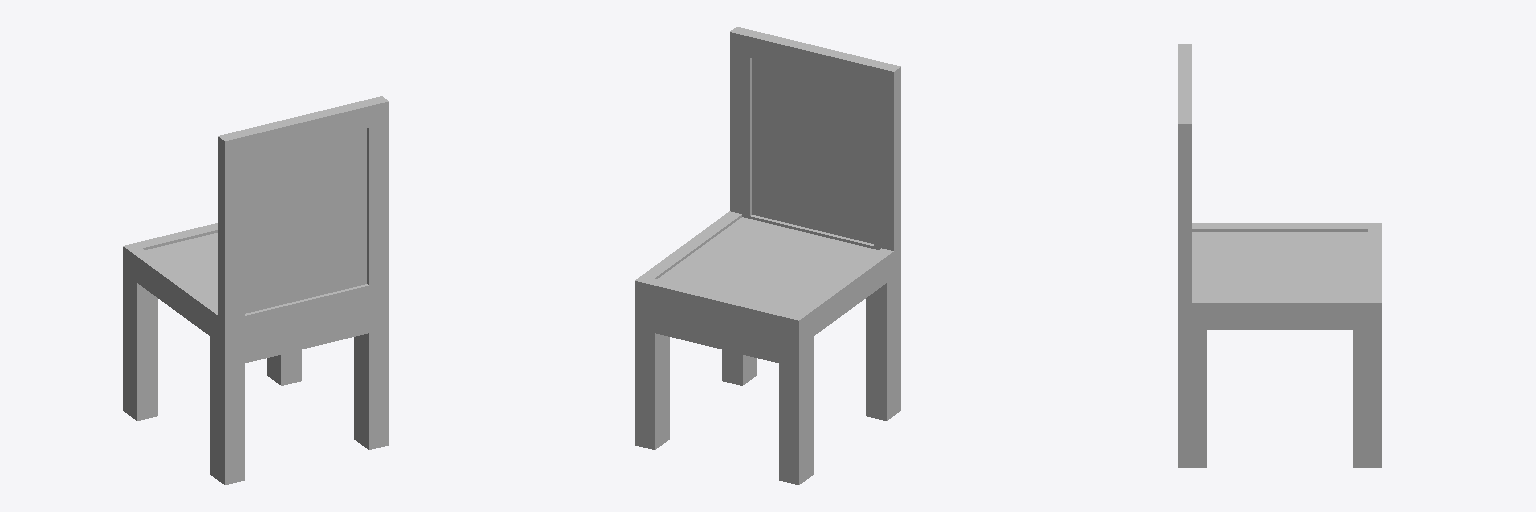
The model's file is simplechairz-.obj.
3 views of the same model, side by side, from view 1: azimuth 30°, elevation 25°; view 2: azimuth 150°, elevation 25°; view 3: azimuth 270°, elevation 25° (orthographic).
Visible parts, largest first — view 1: chair_bedx+.042; view 2: chair_bedx+.042; view 3: chair_bedx+.042.
Part boxes in pixels (x1,y1,x2,y2): chair_bedx+.042: (123,96,388,484); chair_bedx+.042: (635,27,900,484); chair_bedx+.042: (1178,44,1381,467).
Size of the model in its own units: 0.65 by 1.3 by 0.7.